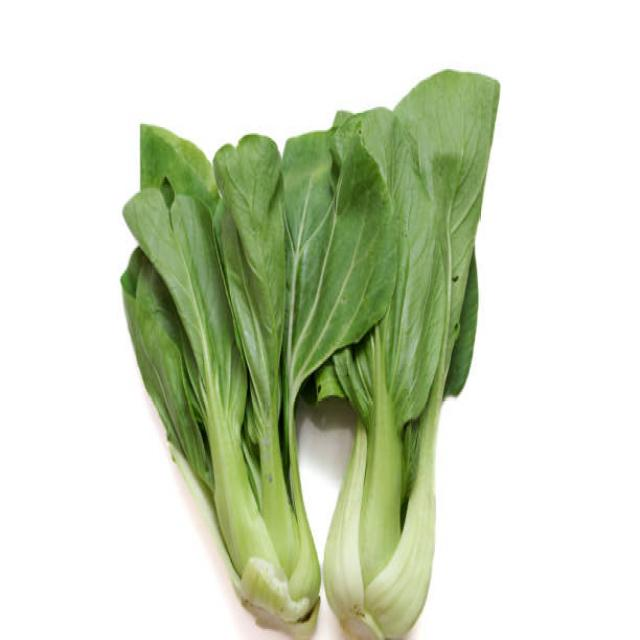bok choy: (153, 132, 327, 630), (338, 102, 463, 640)
